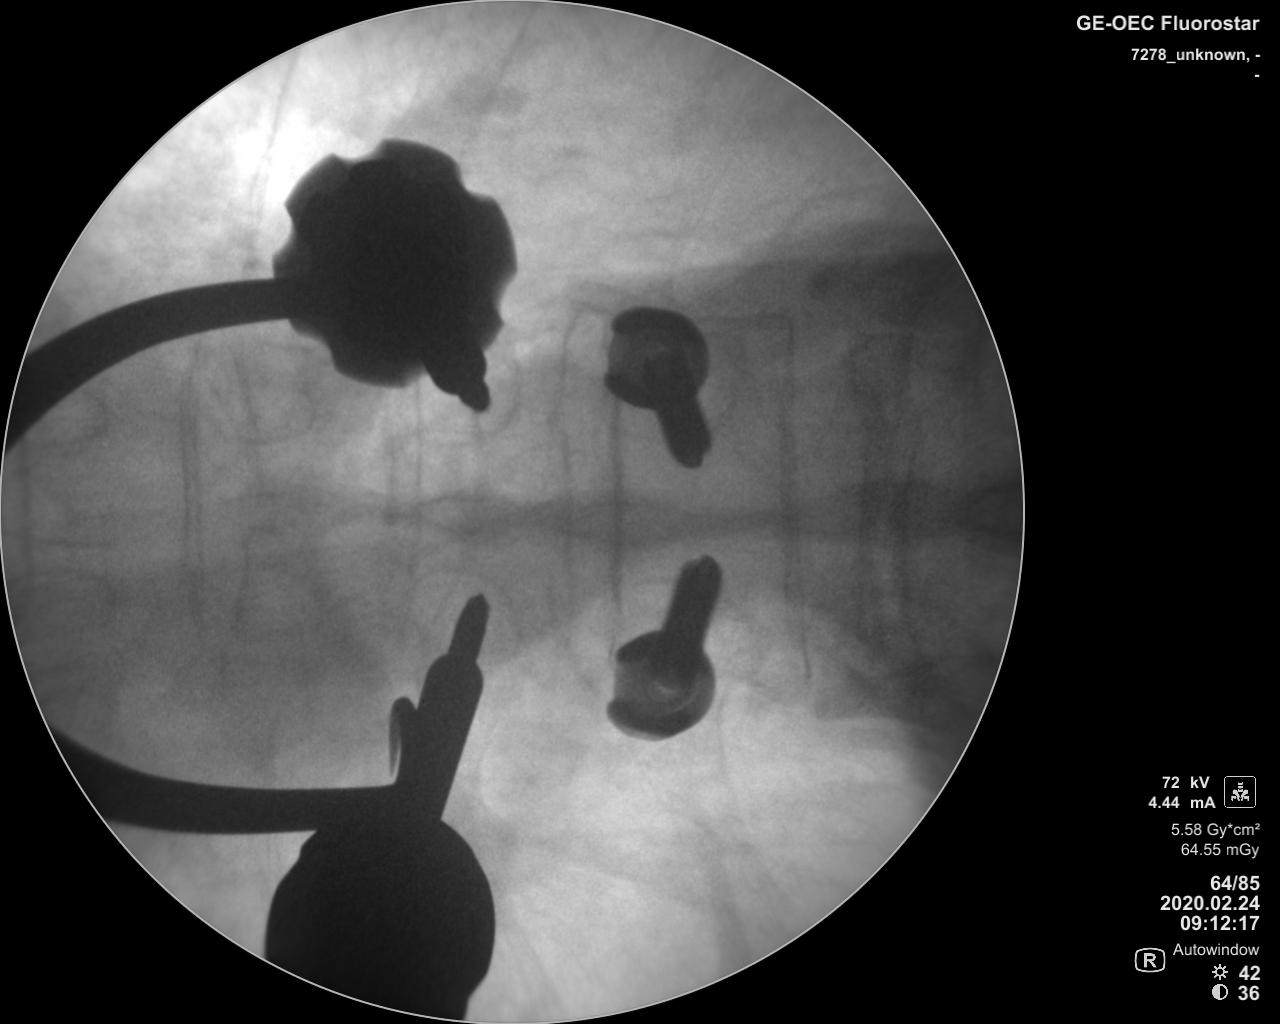eyes: (607, 572, 766, 677), (409, 341, 527, 438), (196, 355, 318, 449), (406, 566, 522, 664), (206, 563, 324, 643)
line: (771, 327, 812, 677), (548, 325, 586, 664), (169, 364, 211, 642), (847, 358, 879, 643), (601, 392, 629, 643), (376, 398, 397, 657)
nose: (741, 471, 956, 549), (390, 483, 533, 549), (544, 492, 697, 554), (212, 484, 359, 540)
